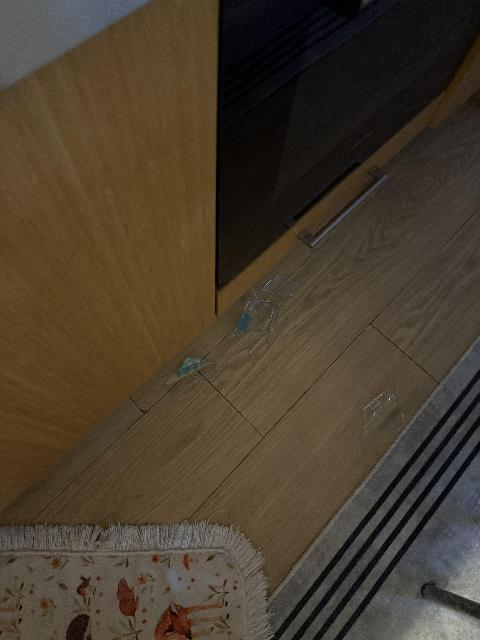Cam: (226, 269, 311, 345), (354, 380, 407, 450), (158, 350, 221, 392)
